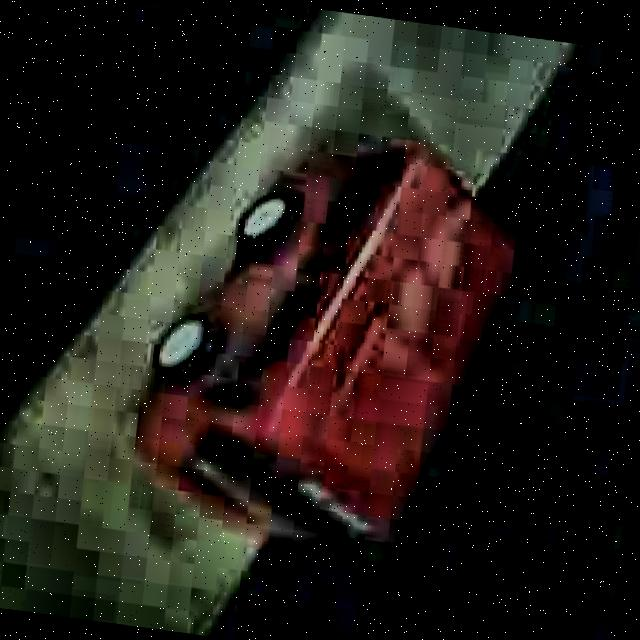bus: (122, 107, 530, 569)
